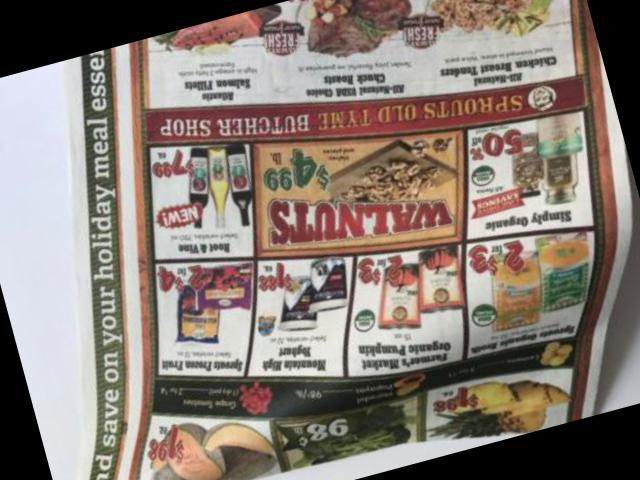cardboard paper: (63, 0, 629, 480)
